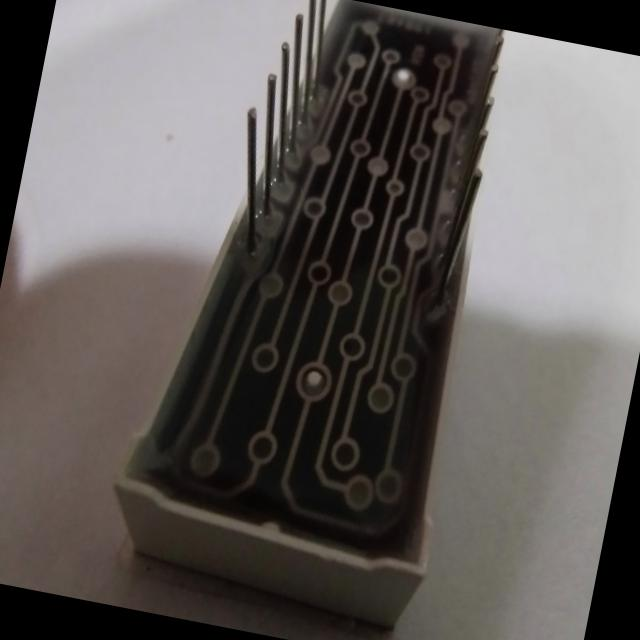7_segments_4_digits: (88, 0, 536, 640)
